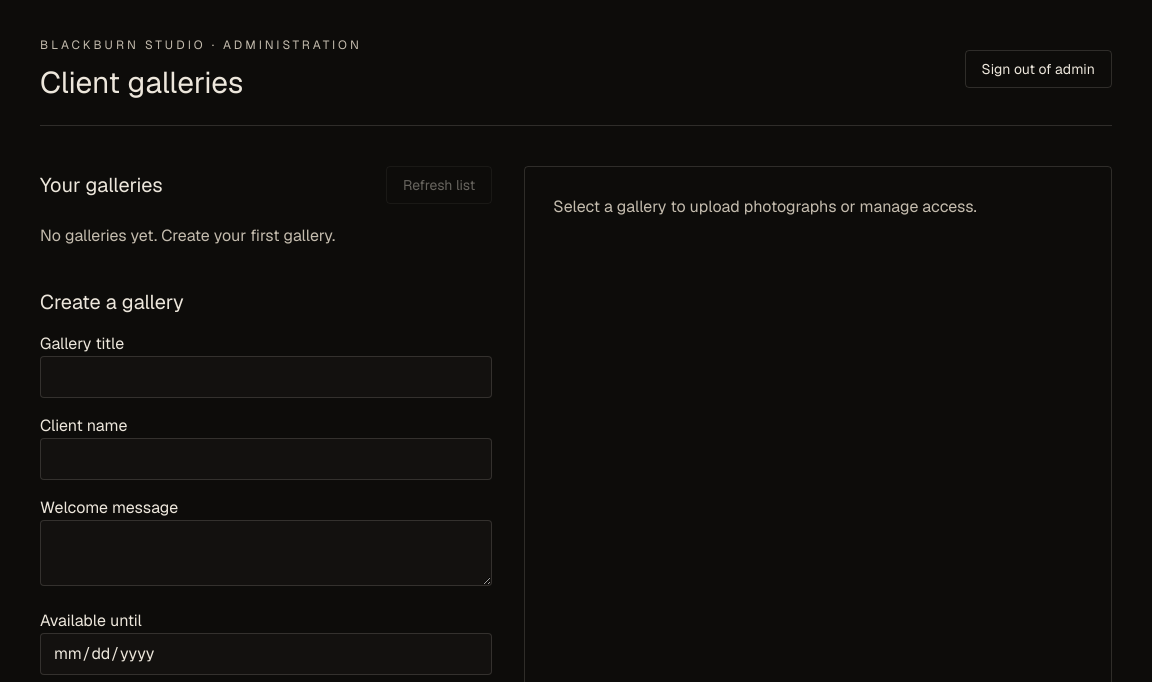
Test: blocks actions until the initial gallery list settles with success
expect the field labelled "Gallery title" is disabled: met, box [40,356,492,398]
Click the button "Refresh list": (439, 185) [386,166,492,204]
(page scrolled)
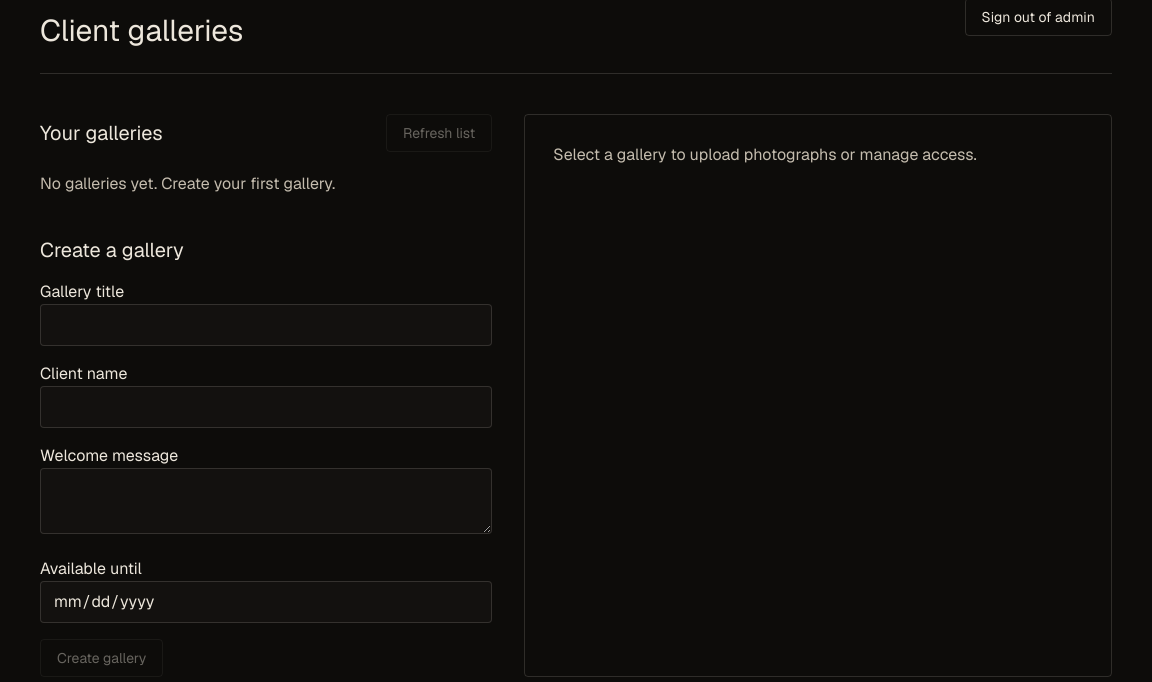
Click the button "Create gallery": (102, 658) [40,639,163,677]
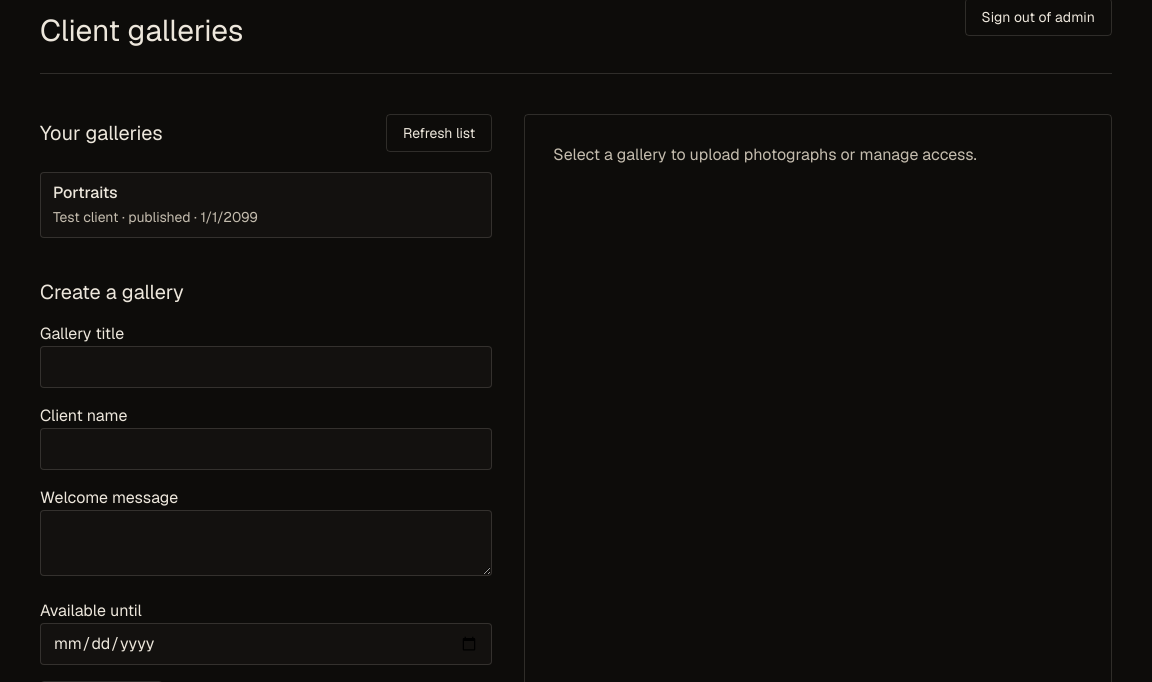
expect the button "Refresh list" is enabled: met, box [386,114,492,152]
expect the button "Portraits Test client · published · 1/1/2099" is enabled: met, box [40,172,492,238]
